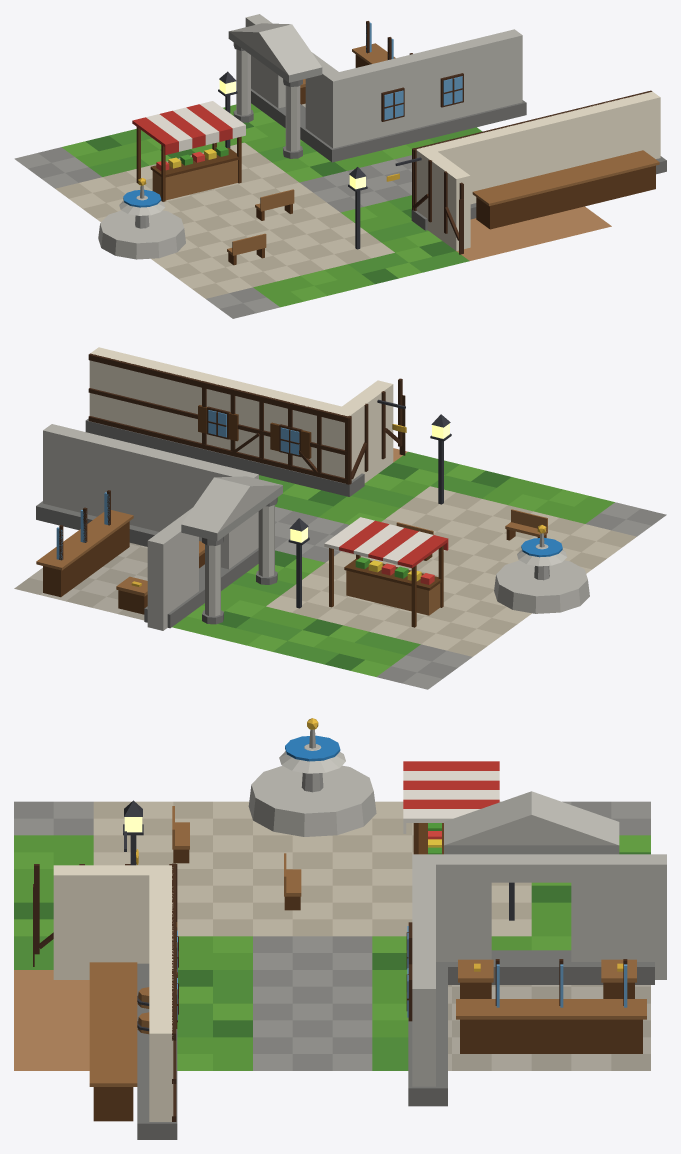
The model's file is chunk_6_5.glb.
3 renders of one model, top to bottom at view 1: azimuth 30°, elevation 25°; view 2: azimuth 150°, elevation 25°; view 3: azimuth 270°, elevation 25°, orthographic. The views are drawn at different scales.
Parts seen in each view (by area): view 1: chunk_6_5; view 2: chunk_6_5; view 3: chunk_6_5.
Part boxes in pixels (x1,y1,x2,y2): chunk_6_5: [14, 14, 666, 318]; chunk_6_5: [14, 347, 666, 689]; chunk_6_5: [14, 718, 666, 1139].
Bounding box in the file's own units: 21.21 × 4.3 × 16.4.
